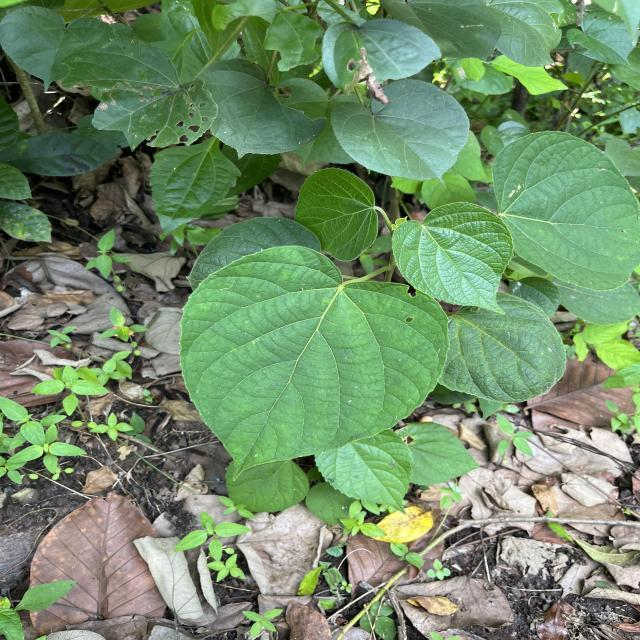Clerodendrum infortunatum: (178, 244, 452, 482), (490, 130, 640, 292), (390, 200, 516, 317), (438, 291, 568, 404), (293, 165, 380, 264)
